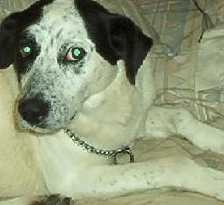dog: (0, 0, 163, 157)
